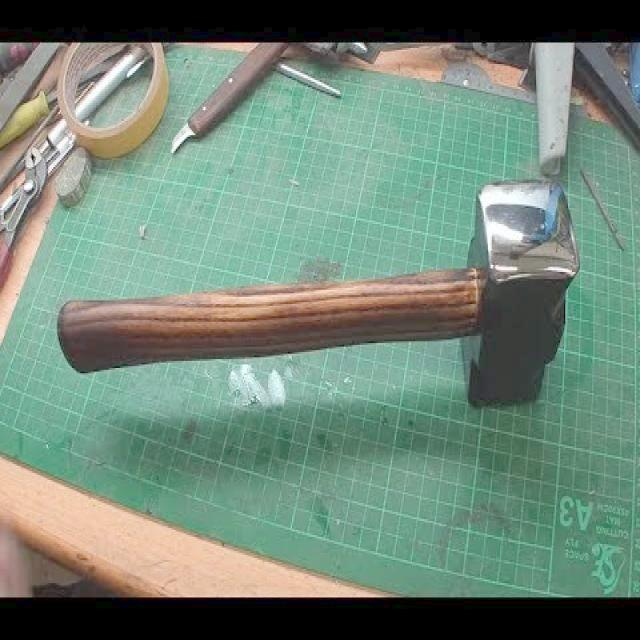hammer: (53, 171, 580, 417)
